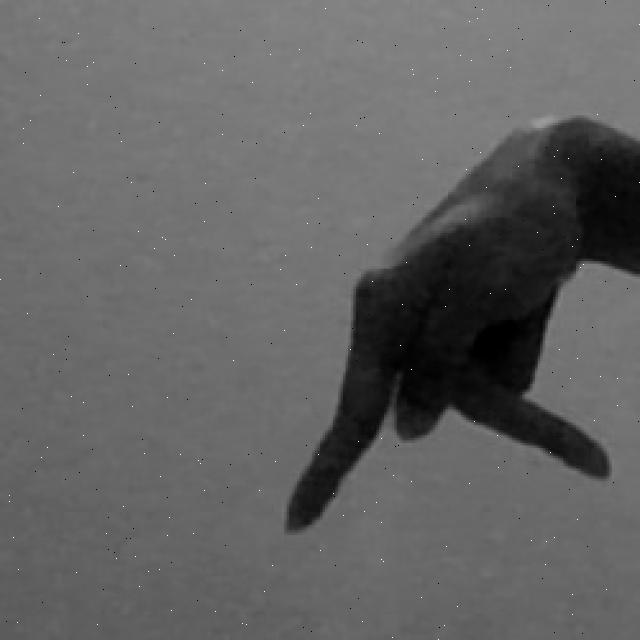P: (276, 105, 640, 543)
